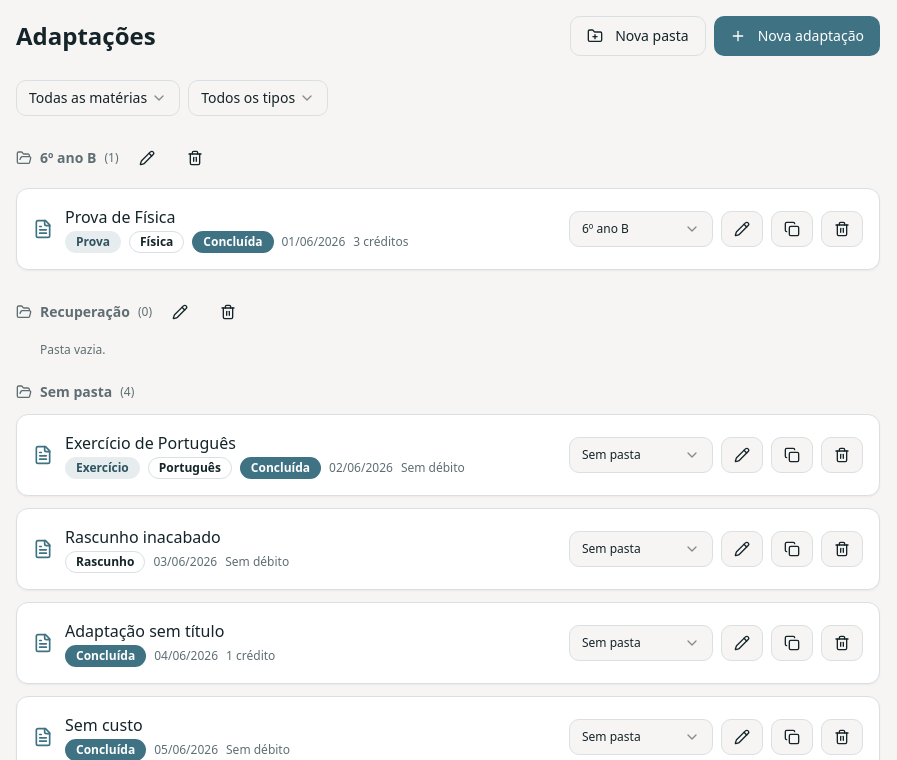
Scenario: AdaptacoesPage › filtros › resets the tipo filter back to all
Click the dropdown named "Filtrar por tipo".
click(258, 98)  # box [188,80,328,116]
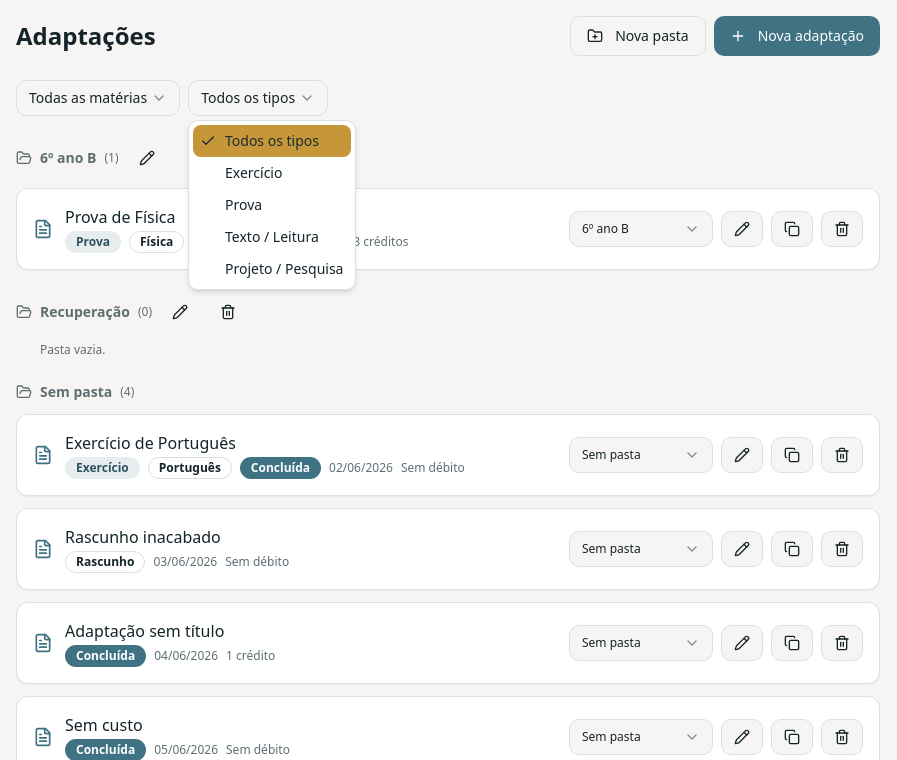
Expected: the option "Prova" is shown
Click the option "Prova".
click(244, 204)  # box [225,195,262,214]
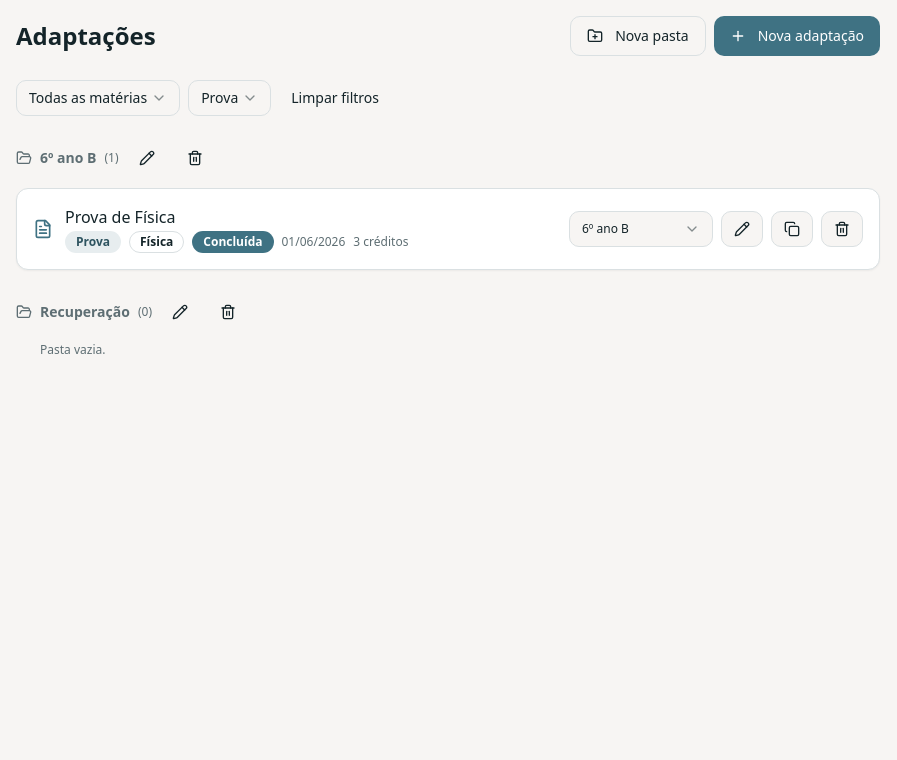
Click the dropdown named "Filtrar por tipo".
click(230, 98)  # box [188,80,271,116]
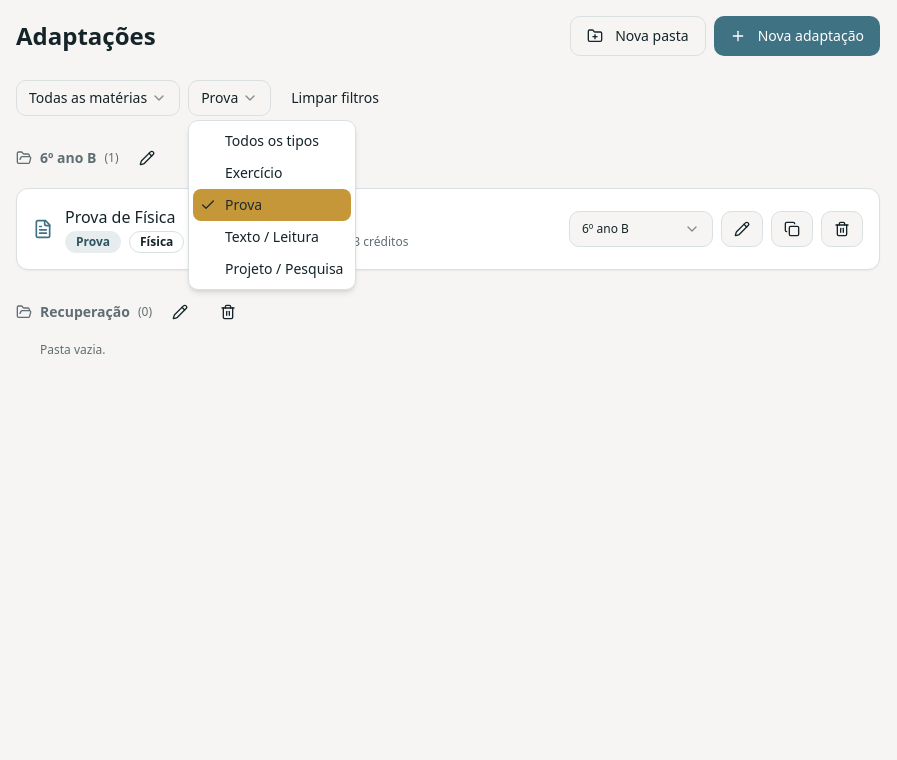
Expected: the option "Todos os tipos" is shown
Click the option "Todos os tipos".
click(272, 140)  # box [225,131,319,150]
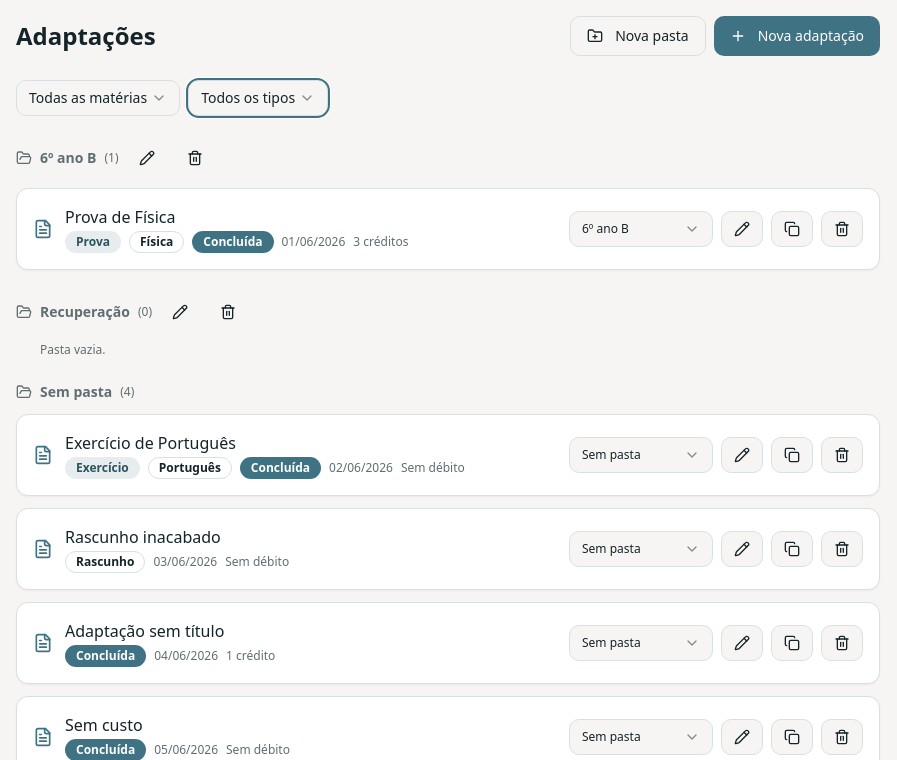
Expected: the text "Exercício de Português" is shown, [65,432,236,454]
